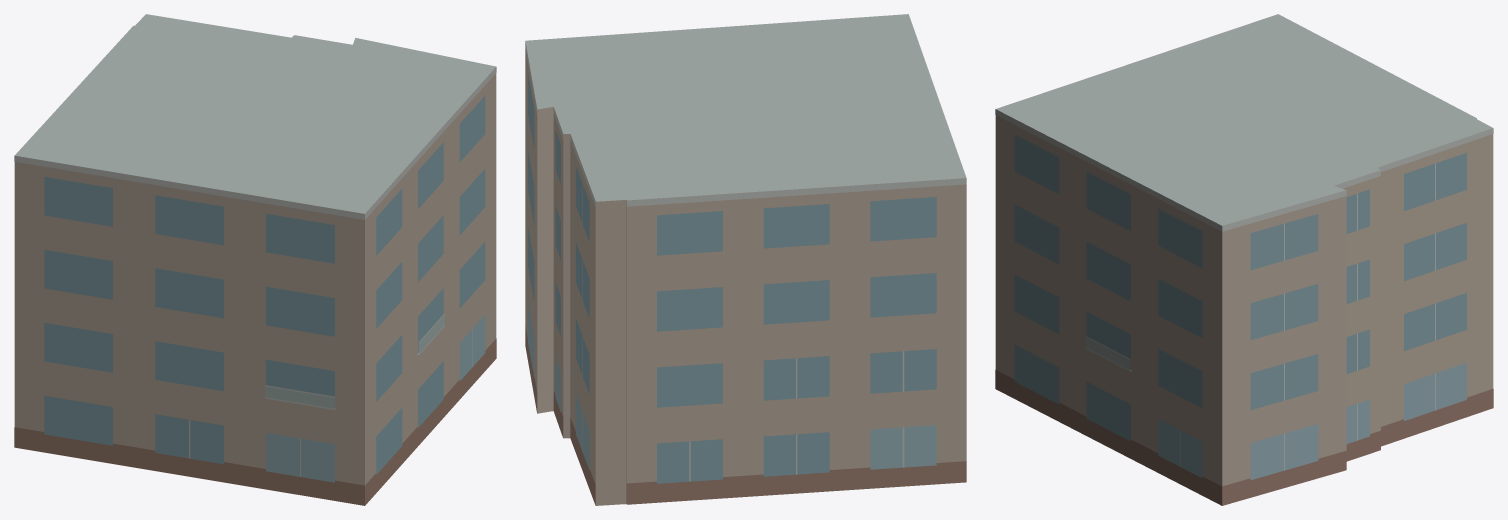
File: survey-upis-32649009.glb
The picture shows the model from 3 angles, left to right: view 1: azimuth 30°, elevation 25°; view 2: azimuth 150°, elevation 25°; view 3: azimuth 270°, elevation 25°; orthographic projection. The views are drawn at different scales.
Parts seen in each view (by area): view 1: survey-upis-32649009.tmp; view 2: survey-upis-32649009.tmp; view 3: survey-upis-32649009.tmp.
Part boxes in pixels (bbox=[...]): survey-upis-32649009.tmp: bbox=[14, 14, 496, 505]; survey-upis-32649009.tmp: bbox=[525, 14, 966, 505]; survey-upis-32649009.tmp: bbox=[995, 14, 1493, 505].
Bounding box in the file's own units: 19.16 × 11.8 × 19.03.
